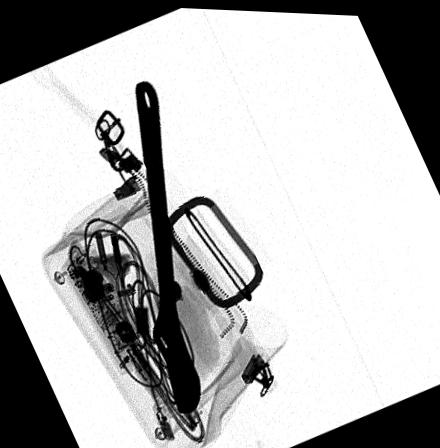Wrench: (133, 76, 201, 414)
